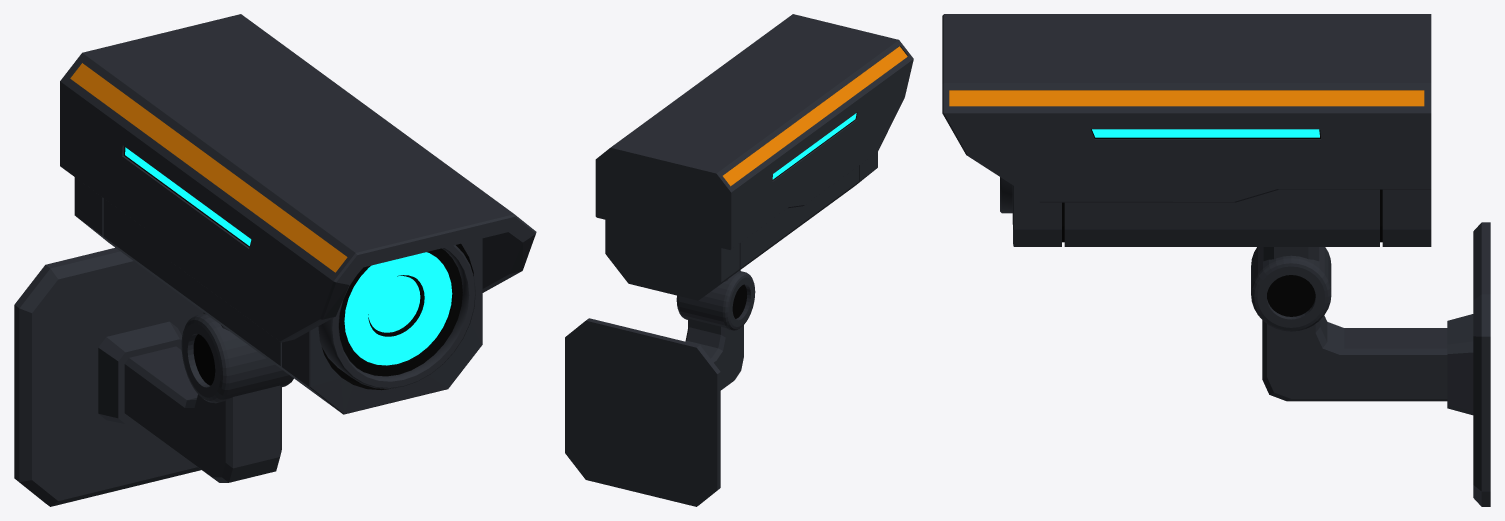
Rendered from SM_Wall_Camera.fbx.
3 views of the same model, side by side, from view 1: azimuth 30°, elevation 25°; view 2: azimuth 150°, elevation 25°; view 3: azimuth 270°, elevation 25° (orthographic). The views are drawn at different scales.
Parts seen in each view (by area): view 1: SM_Wall_Camera_Cam, SM_Wall_Camera_Base; view 2: SM_Wall_Camera_Cam, SM_Wall_Camera_Base; view 3: SM_Wall_Camera_Cam, SM_Wall_Camera_Base.
Part boxes in pixels (bbox=[...]): SM_Wall_Camera_Cam: bbox=[60, 14, 536, 414]; SM_Wall_Camera_Base: bbox=[14, 247, 293, 506]; SM_Wall_Camera_Cam: bbox=[595, 14, 913, 300]; SM_Wall_Camera_Base: bbox=[565, 271, 755, 506]; SM_Wall_Camera_Cam: bbox=[942, 14, 1431, 261]; SM_Wall_Camera_Base: bbox=[1251, 222, 1490, 506].
Size of the model in its own units: 18.79 by 37.35 by 43.96.
